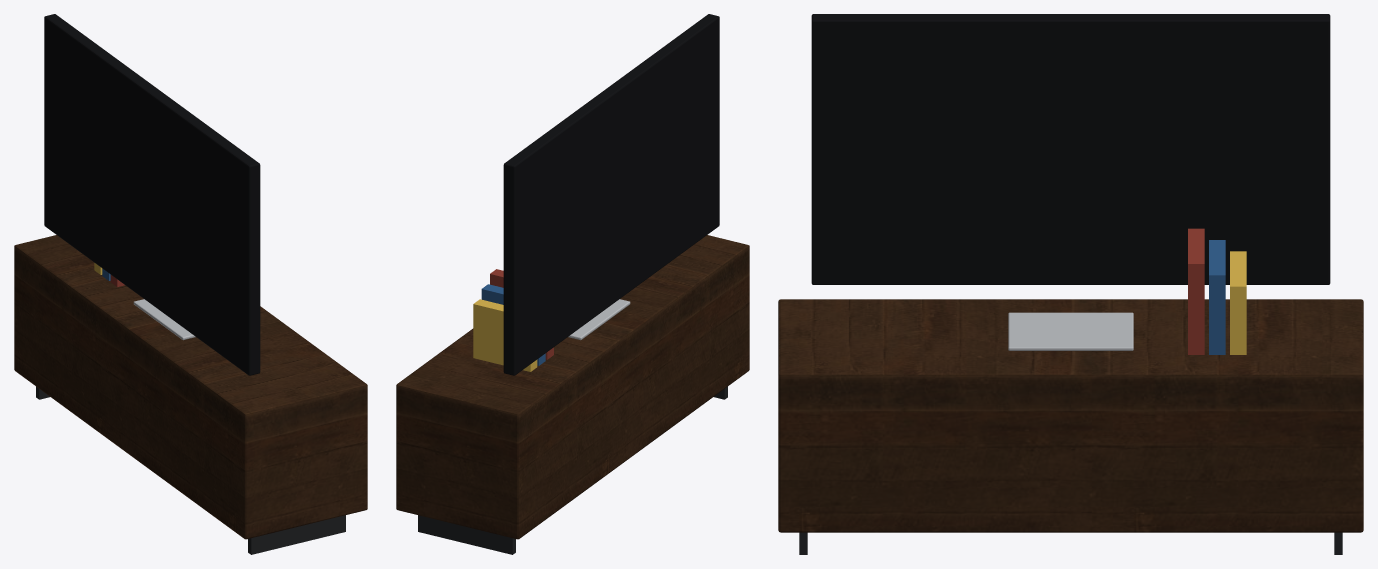
The picture shows the model from 3 angles, left to right: view 1: azimuth 30°, elevation 25°; view 2: azimuth 150°, elevation 25°; view 3: azimuth 270°, elevation 25°; orthographic projection. The views are drawn at different scales.
Visible parts, largest first — view 1: tv_console, tv_screen, tv_foot5.35, tv_stand; view 2: tv_console, tv_screen, tv_book2, tv_foot6.63, tv_stand, tv_book1; view 3: tv_screen, tv_console, tv_stand, tv_book0, tv_book1, tv_book2.
Part boxes in pixels (x1,y1,x2,y2): tv_console: (14, 235, 367, 539); tv_screen: (44, 14, 260, 375); tv_foot5.35: (248, 515, 345, 554); tv_stand: (133, 299, 195, 340); tv_console: (396, 235, 749, 539); tv_screen: (503, 14, 719, 375); tv_book2: (473, 299, 537, 371); tv_foot6.63: (418, 515, 515, 554); tv_stand: (568, 299, 630, 340); tv_book1: (481, 284, 545, 365); tv_screen: (811, 14, 1330, 284); tv_console: (778, 299, 1363, 532); tv_stand: (1008, 312, 1133, 350); tv_book0: (1188, 228, 1204, 354); tv_book1: (1209, 240, 1225, 354); tv_book2: (1230, 251, 1246, 354).
Bounding box in the file's own units: 0.43 × 1.28 × 1.4.
7 materials, 1 textured.
